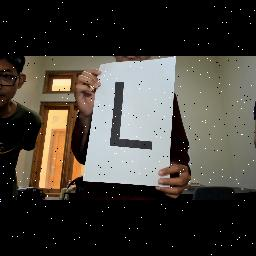l: (108, 78, 156, 154)
